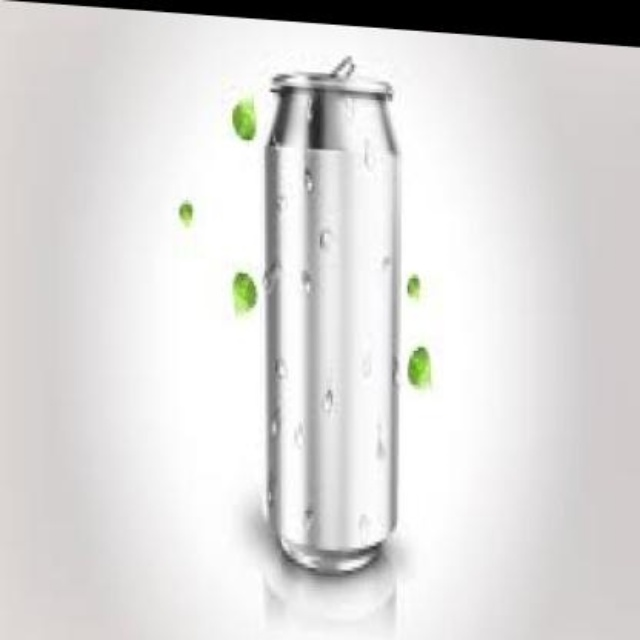trash: (265, 58, 397, 572)
